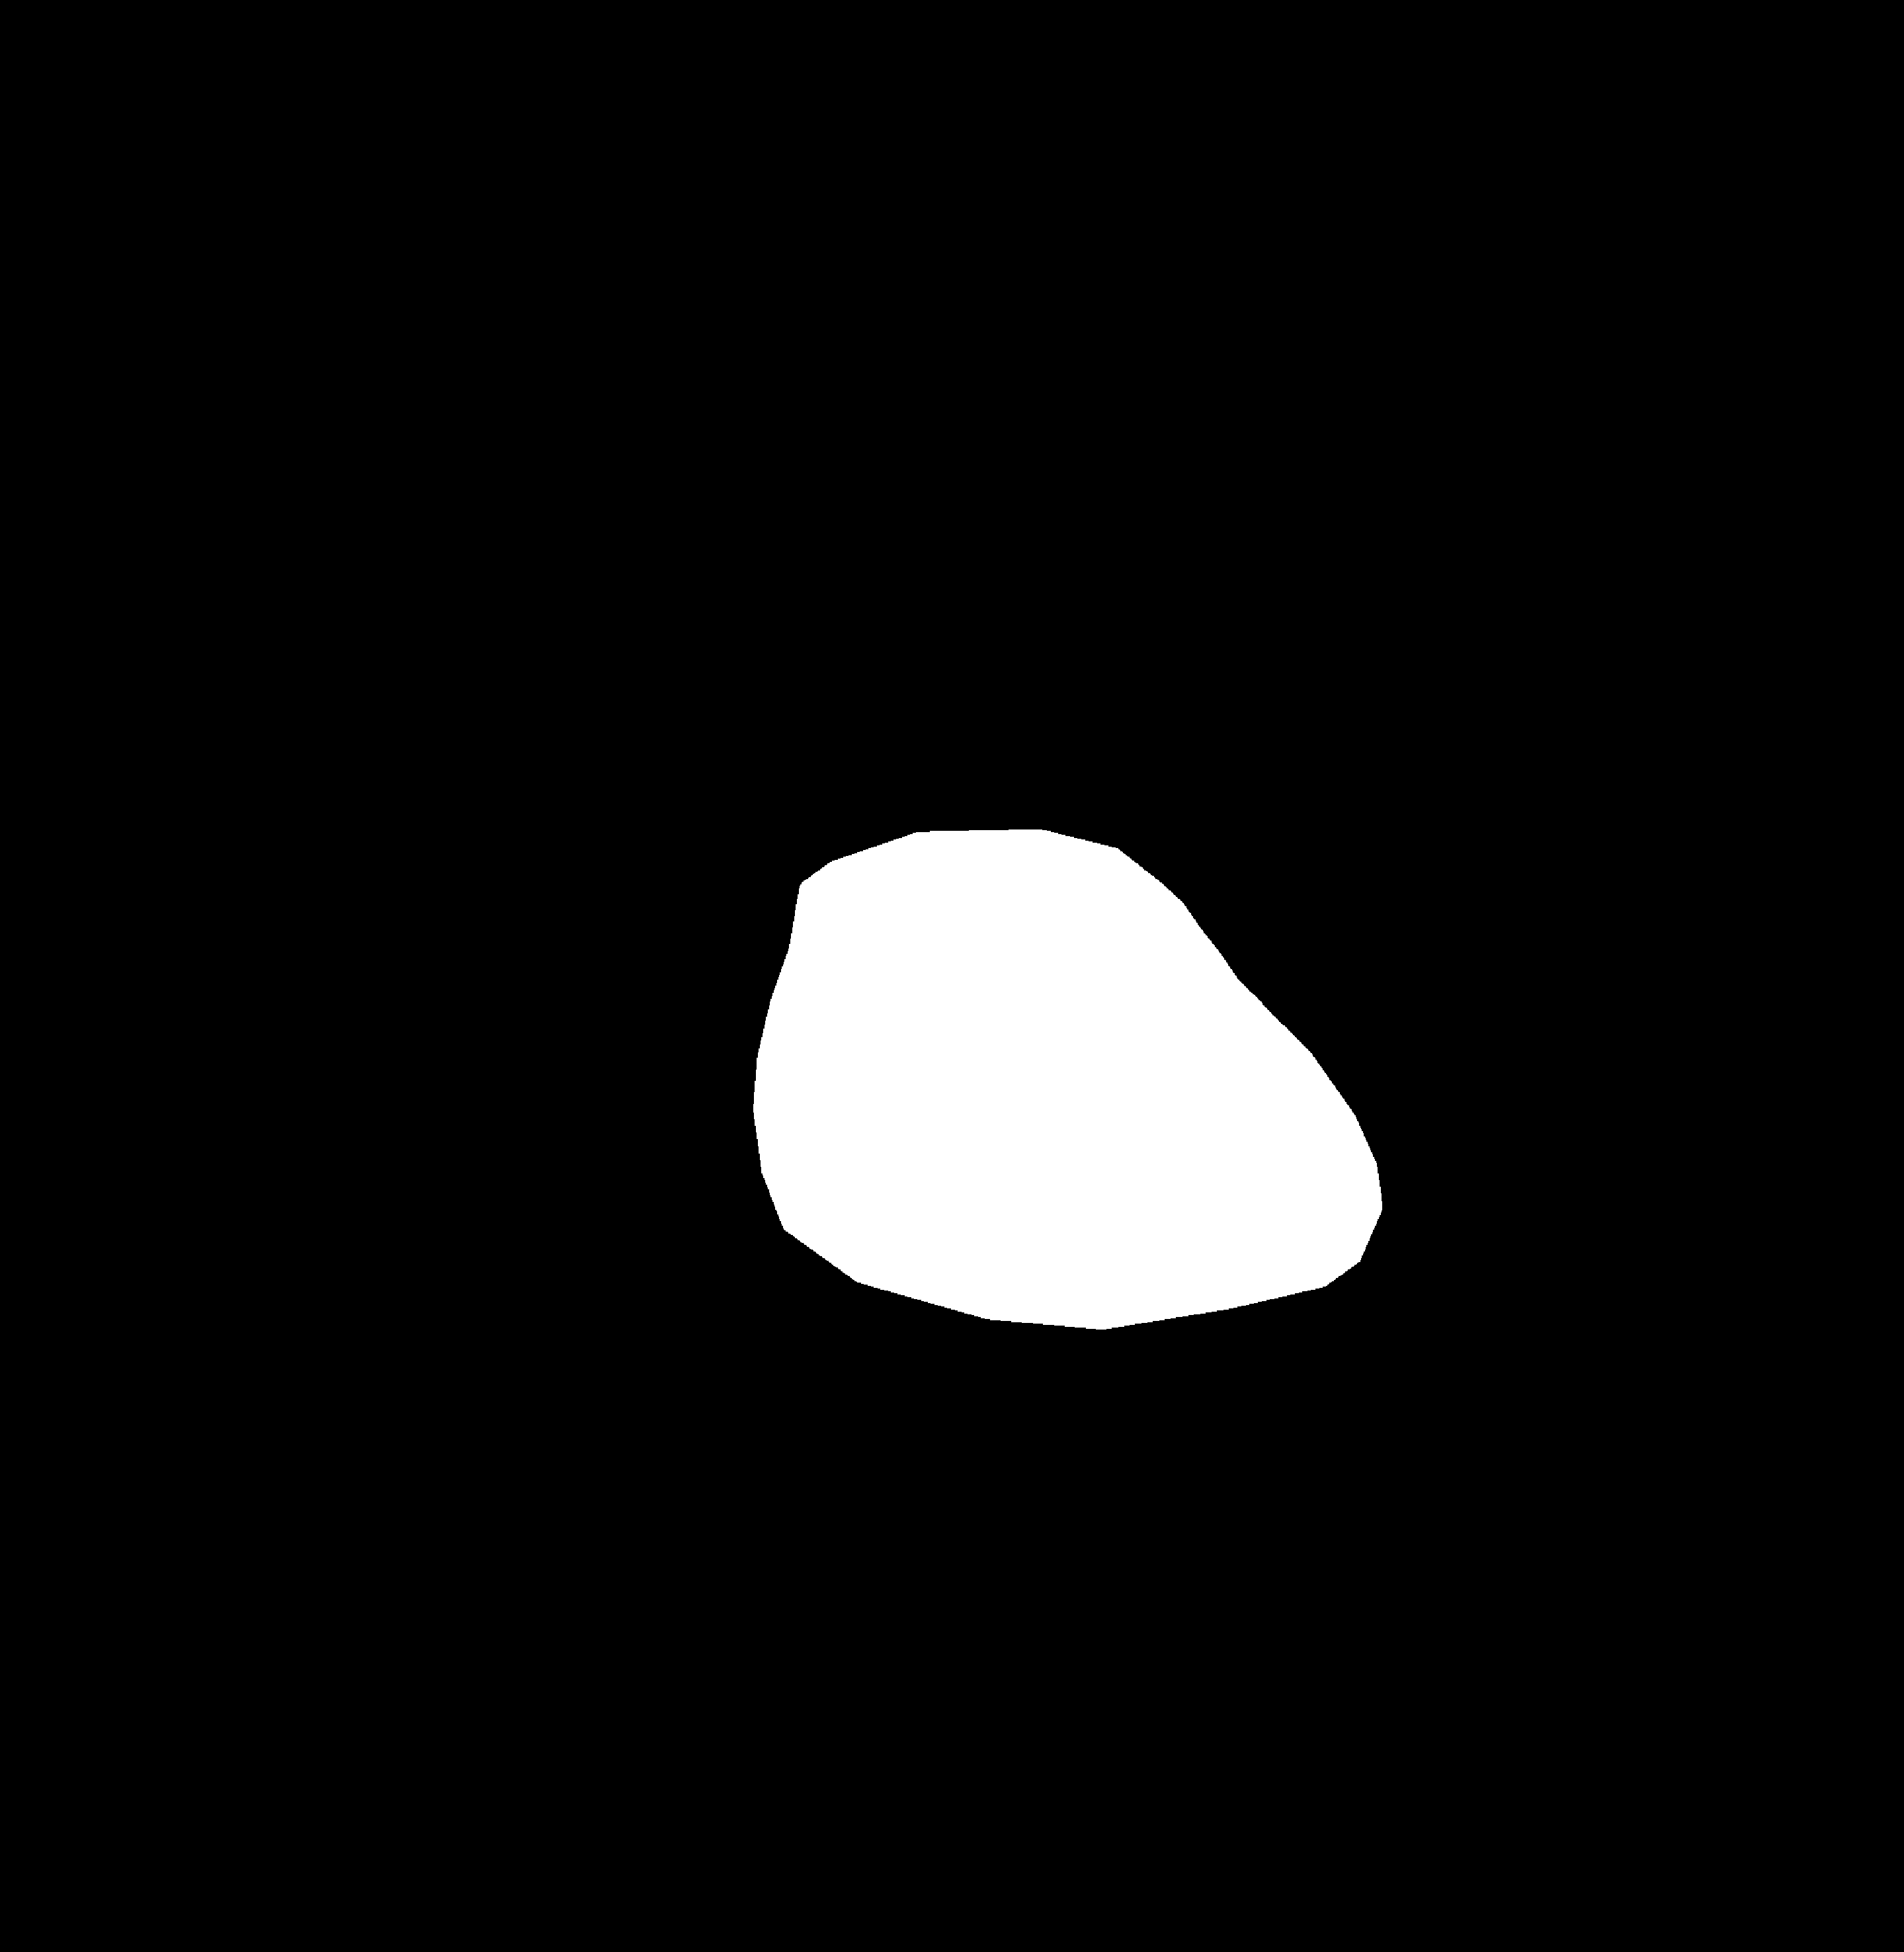heart: (753, 937, 1395, 1364)
left_lung: (328, 312, 863, 1340)
right_lung: (983, 293, 1629, 1361)
